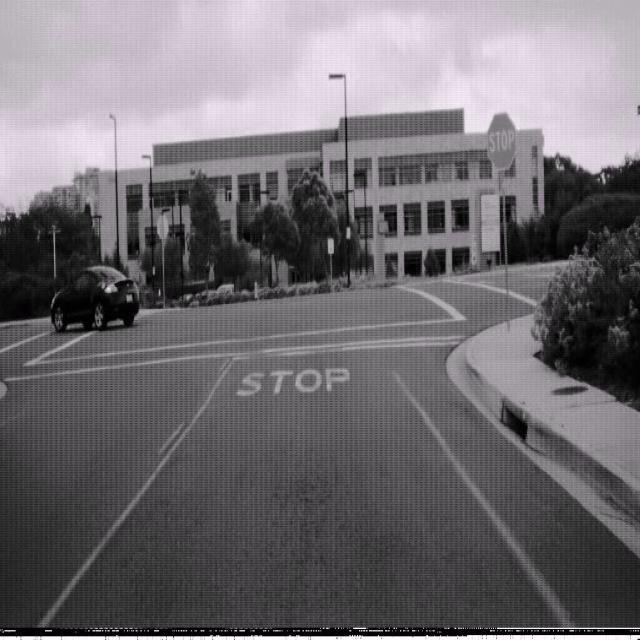stop_sign: (486, 110, 518, 172)
